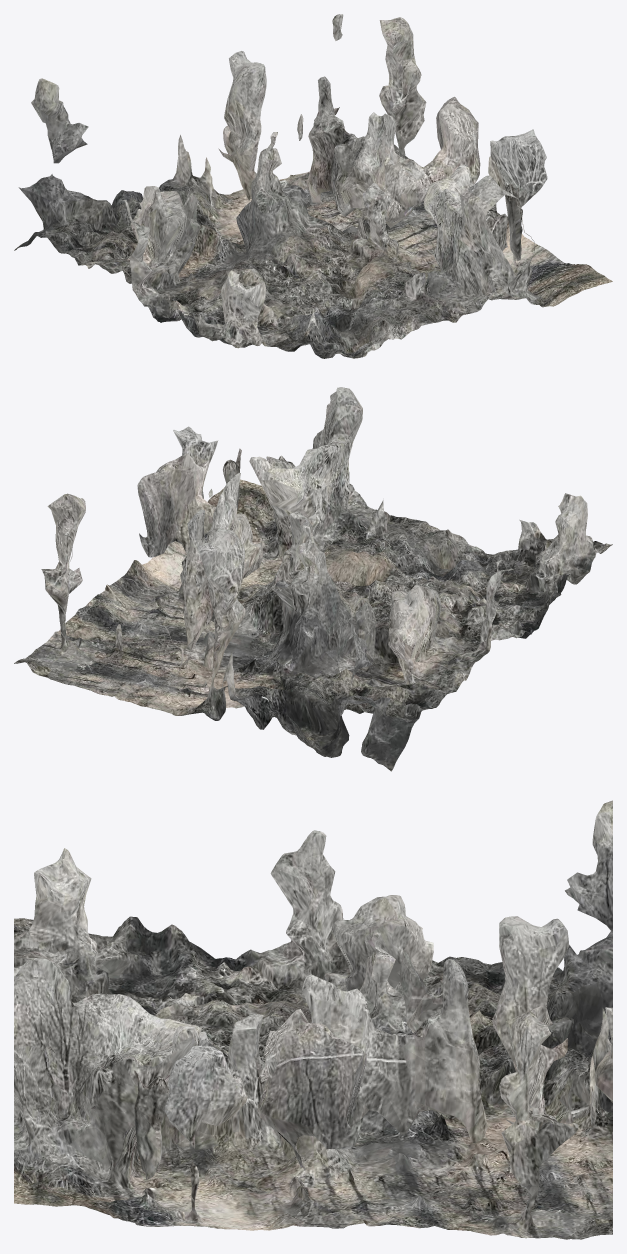
File: Block_L21_769.glb
3 views of the same model, one above another, from view 1: azimuth 30°, elevation 25°; view 2: azimuth 150°, elevation 25°; view 3: azimuth 270°, elevation 25° (orthographic). The views are drawn at different scales.
Parts seen in each view (by area): view 1: rtc; view 2: rtc; view 3: rtc.
Part boxes in pixels (x1,y1,x2,y2): rtc: (14, 14, 612, 358); rtc: (14, 387, 612, 771); rtc: (14, 800, 612, 1239).
Bounding box in the file's own units: 20.26 × 8.78 × 20.58.
Materials: 7 (7 with a texture image).
